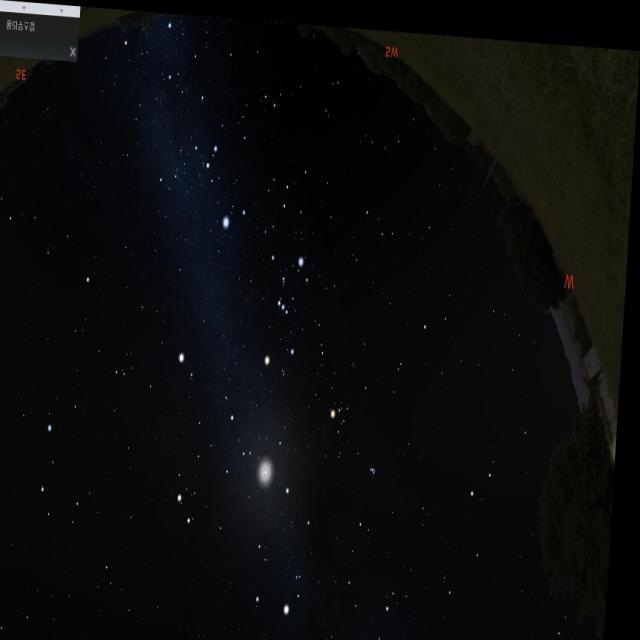canis_major: (202, 133, 255, 231)
canis_minor: (180, 341, 202, 385)
gemini: (177, 399, 255, 531)
moon: (263, 450, 281, 484)
orion: (260, 239, 314, 370)
pleiades: (373, 452, 385, 475)
taurus: (328, 369, 394, 486)
